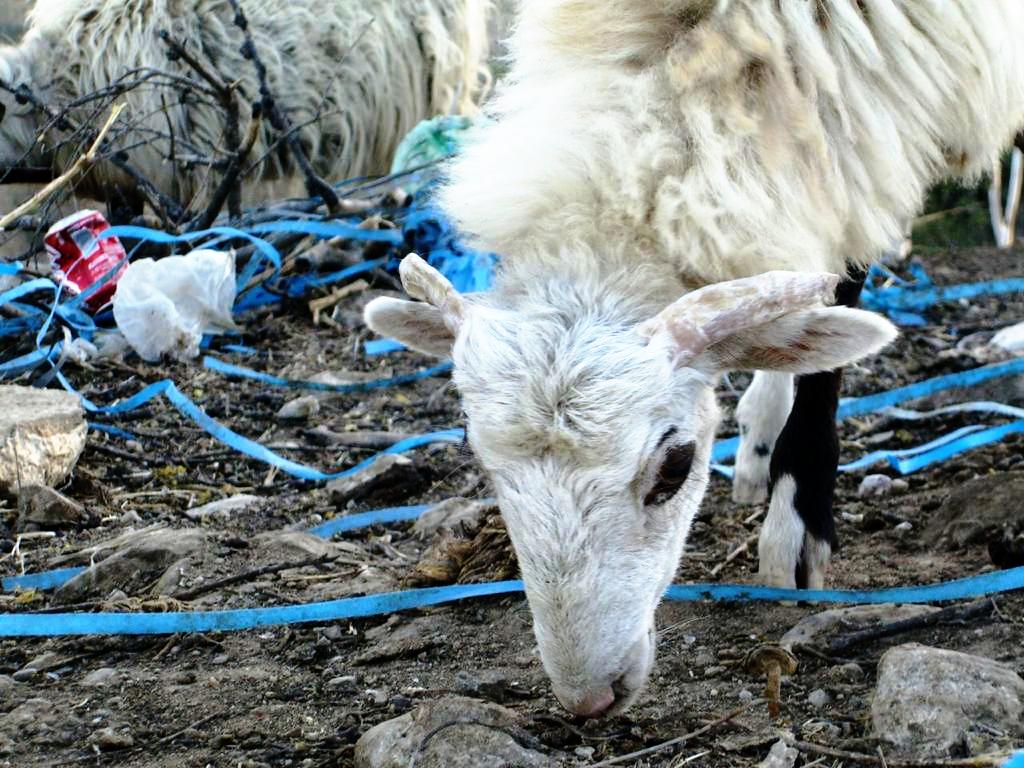Sheep: (360, 0, 1023, 724), (0, 0, 573, 210)
